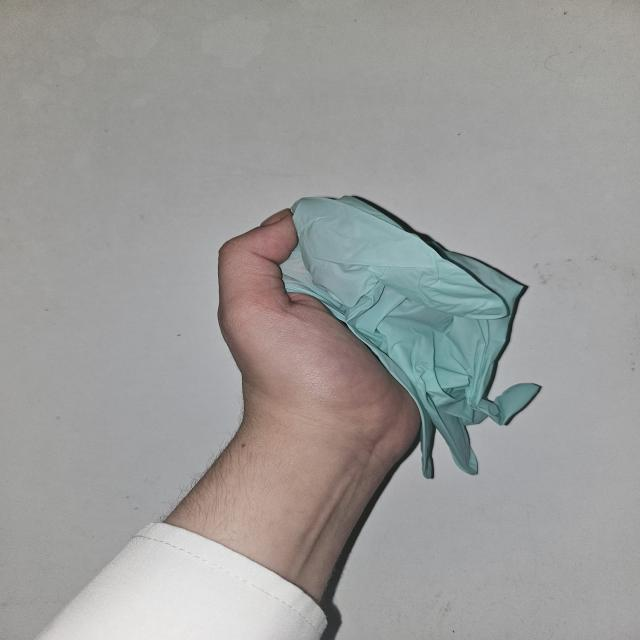glove_partial: (214, 196, 545, 478)
